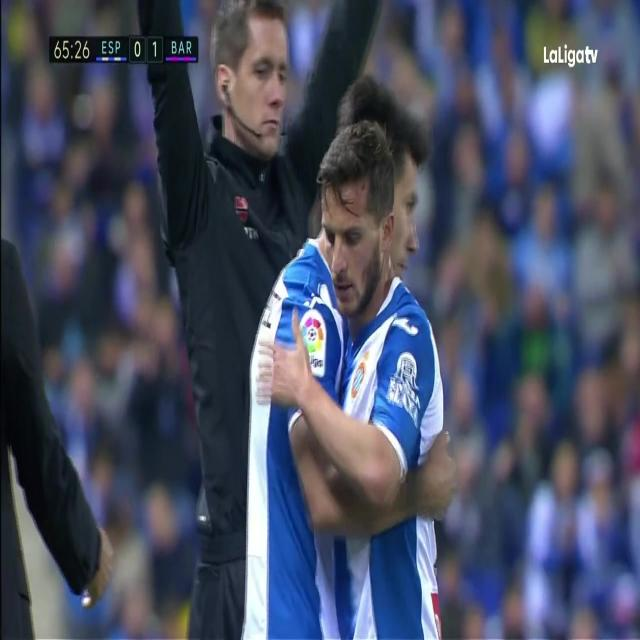Player: (239, 74, 427, 638), (263, 120, 451, 640)
